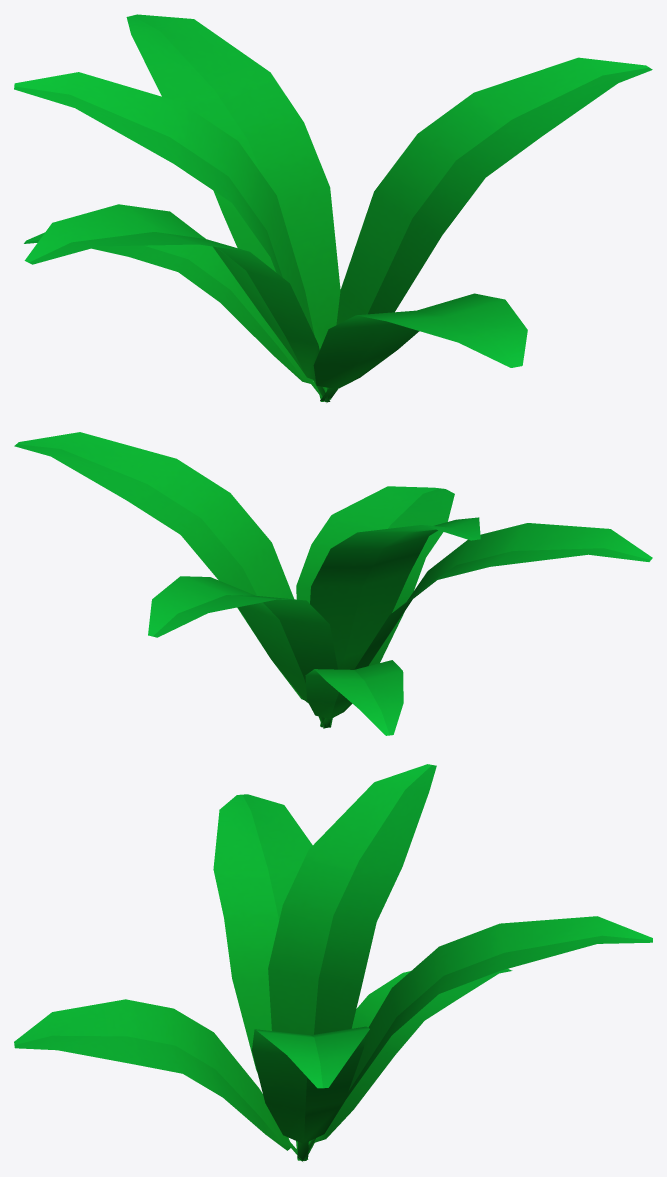
File: Foliage_7.fbx
The picture shows the model from 3 angles, top to bottom: view 1: azimuth 30°, elevation 25°; view 2: azimuth 150°, elevation 25°; view 3: azimuth 270°, elevation 25°; orthographic projection. The views are drawn at different scales.
Parts seen in each view (by area): view 1: Foliage_7; view 2: Foliage_7; view 3: Foliage_7.
Part boxes in pixels (x1=…): Foliage_7: x1=14, y1=14, x2=652, y2=402; Foliage_7: x1=14, y1=432, x2=652, y2=735; Foliage_7: x1=14, y1=764, x2=652, y2=1161.
Bounding box in the file's own units: 1.25 × 0.5751 × 1.14.
